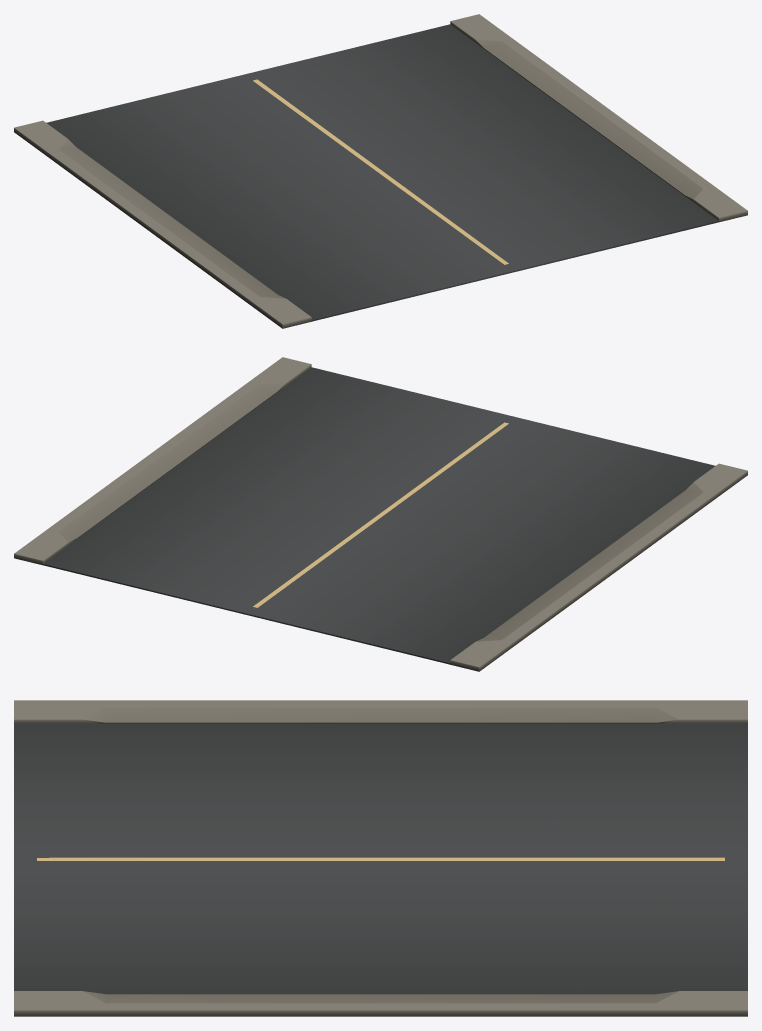
The model's file is Runway_Addon_1A.fbx.
The picture shows the model from 3 angles, top to bottom: view 1: azimuth 30°, elevation 25°; view 2: azimuth 150°, elevation 25°; view 3: azimuth 270°, elevation 25°; orthographic projection. The views are drawn at different scales.
Parts seen in each view (by area): view 1: Runway_Addon_1A; view 2: Runway_Addon_1A; view 3: Runway_Addon_1A.
Boxes of the visible parts, box(x1,y1,x2,y2) form: Runway_Addon_1A: box(14, 14, 747, 328); Runway_Addon_1A: box(14, 357, 747, 671); Runway_Addon_1A: box(14, 700, 747, 1016).
Size of the model in its own units: 3200 by 30 by 3200.
